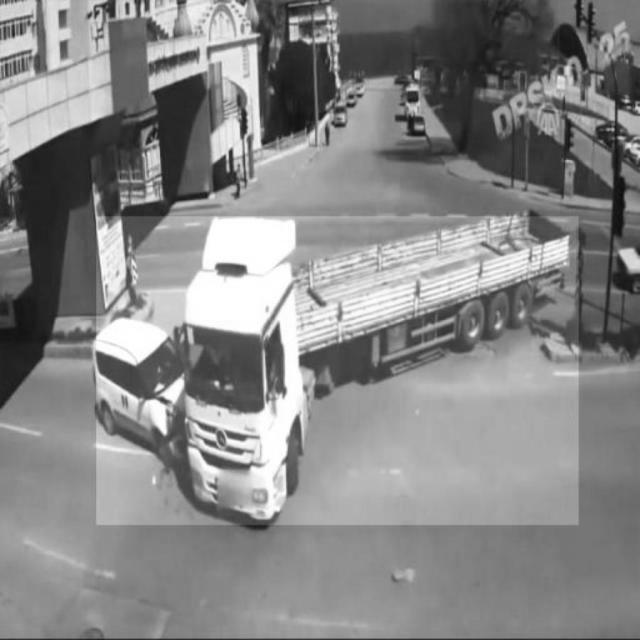accident: (97, 216, 579, 524)
